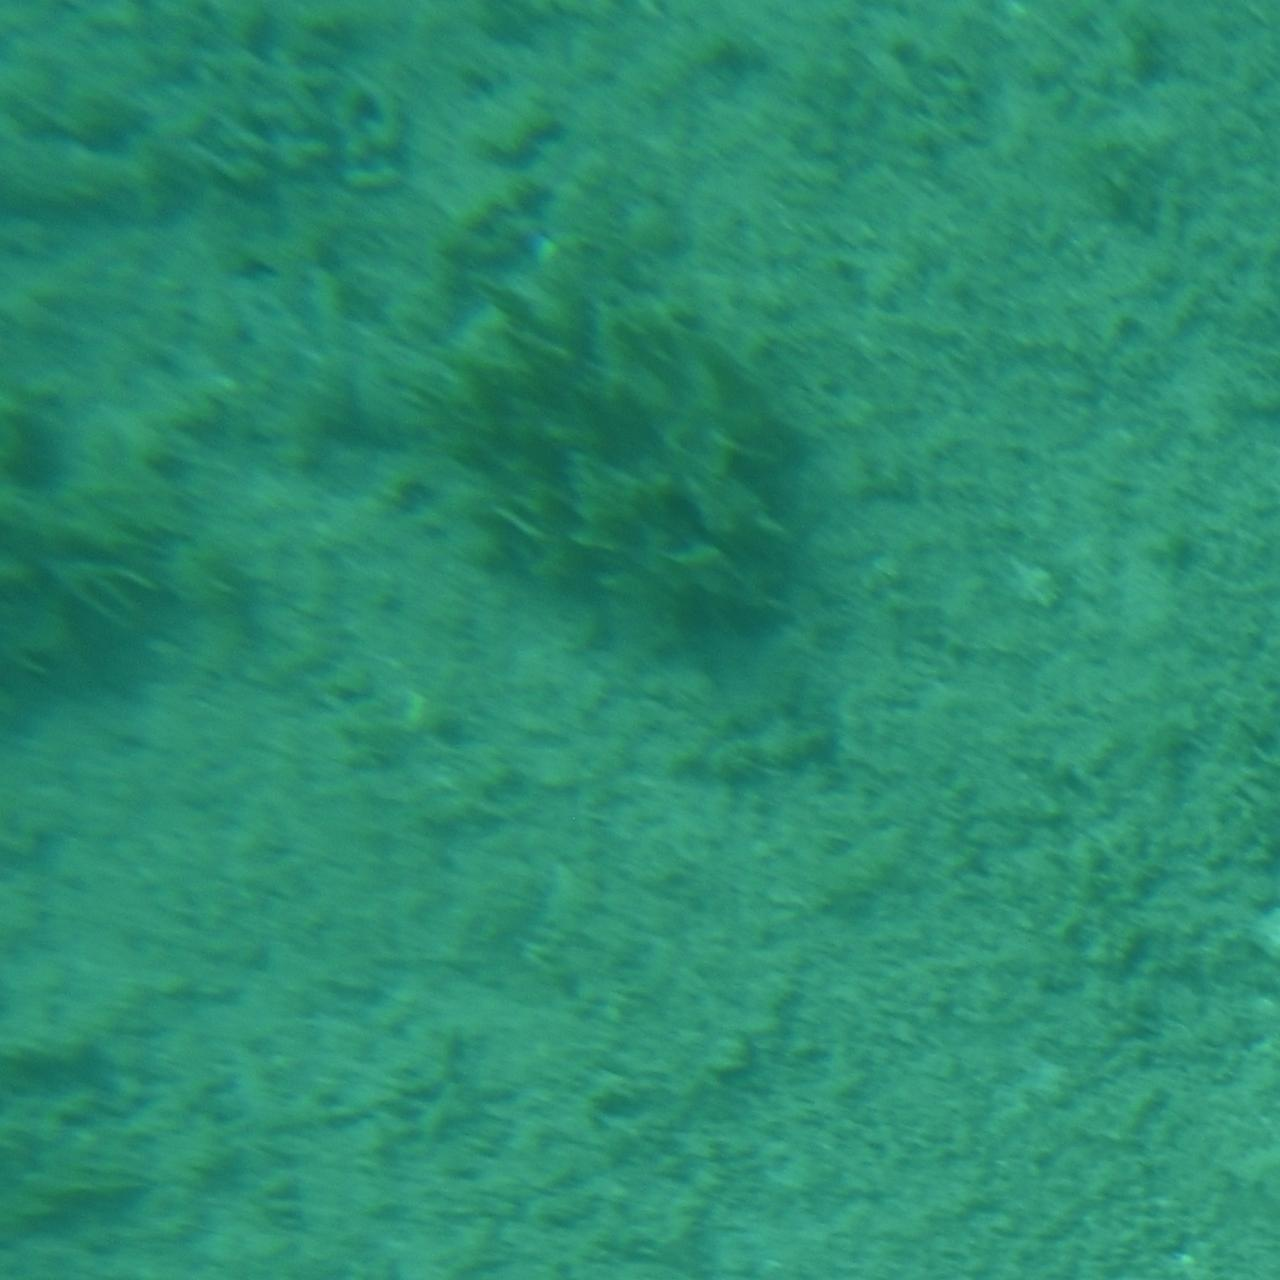Phaeophyceae -cfr Cystoseira-: (423, 264, 857, 653)
